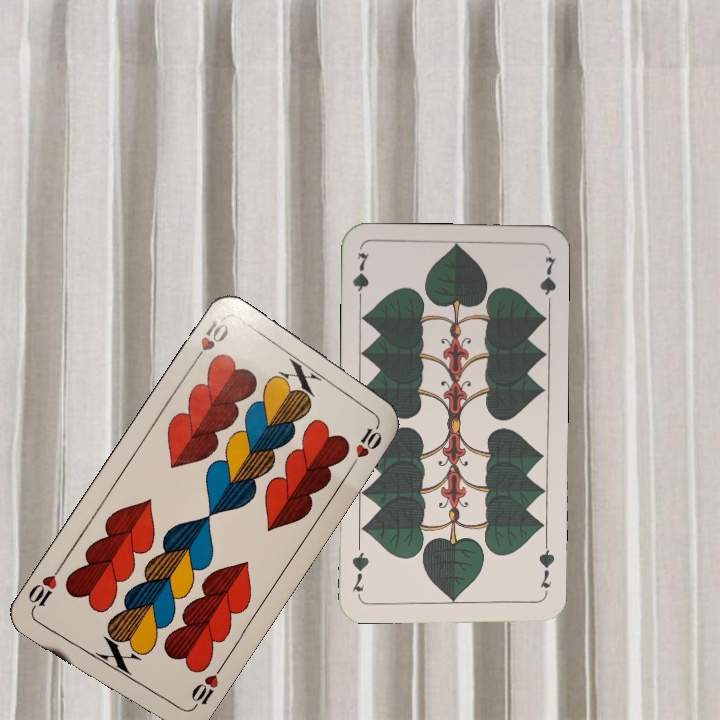G7: (349, 249, 372, 307), (534, 539, 557, 590)
H10: (188, 315, 231, 368), (185, 662, 225, 714)
